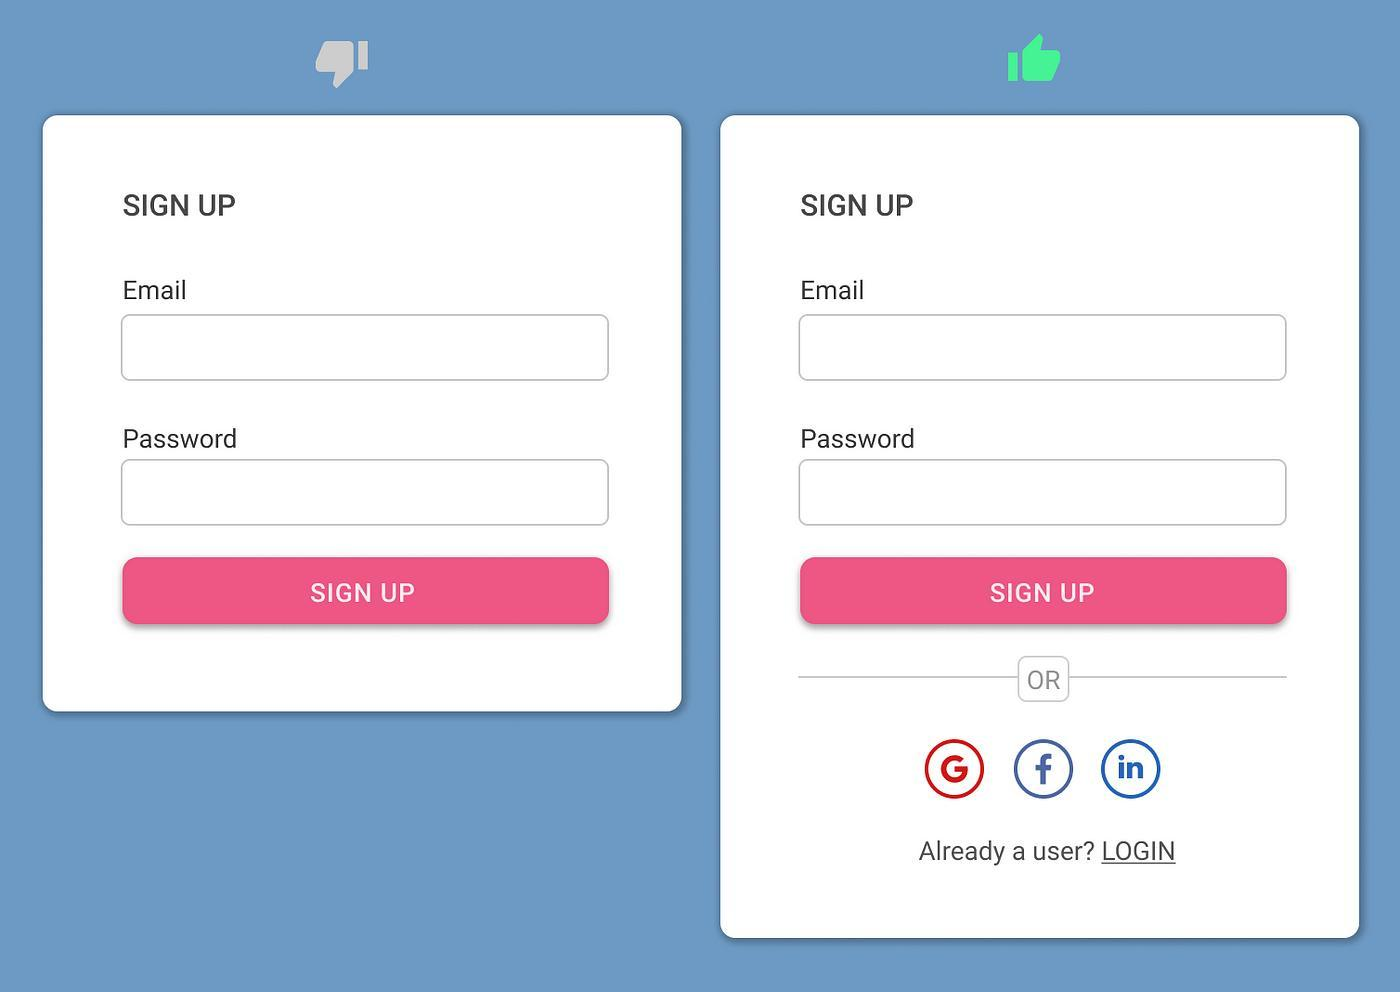button: (794, 553, 1287, 631), (123, 557, 614, 626)
icon: (1012, 738, 1079, 803), (1102, 736, 1161, 803), (923, 739, 985, 798)
input: (123, 315, 609, 383), (125, 459, 609, 526), (801, 316, 1289, 381), (801, 462, 1286, 527)
label: (800, 424, 918, 455), (117, 426, 240, 452), (119, 275, 191, 306), (797, 276, 867, 303)
